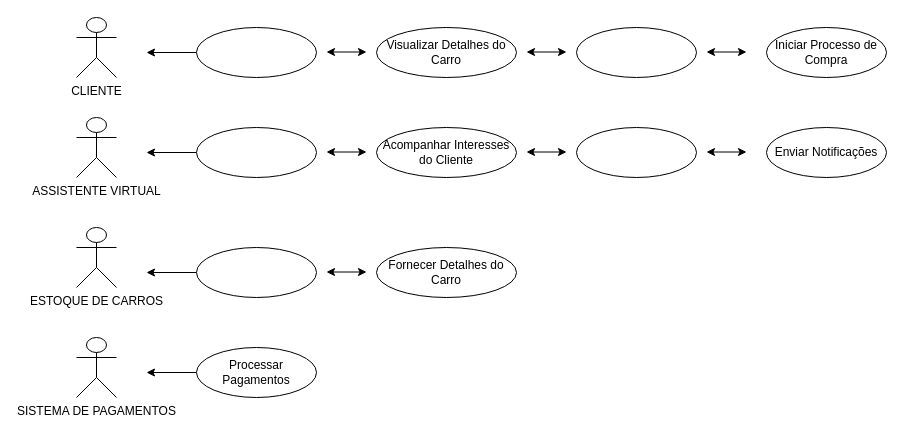
The diagram is 904 pixels wide and 436 high, and some of its shapes have lost their labels. Each missing label, with the box of its shape:
Atualizar Disponibilidade: (196, 246, 316, 298)
Envio de informações: (576, 126, 696, 178)
Pesquisar Carros: (196, 26, 316, 78)
Receber o cliente: (196, 126, 316, 178)
Receber Recomendações: (576, 26, 696, 78)
